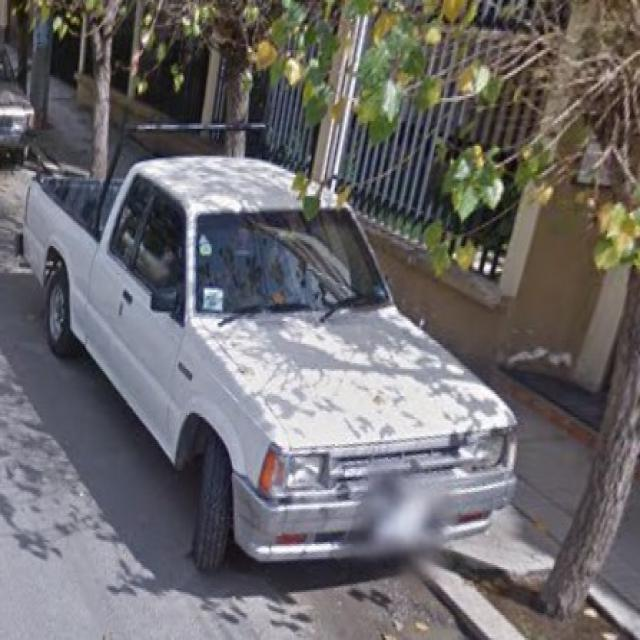car: (20, 152, 520, 573), (0, 42, 40, 162)
